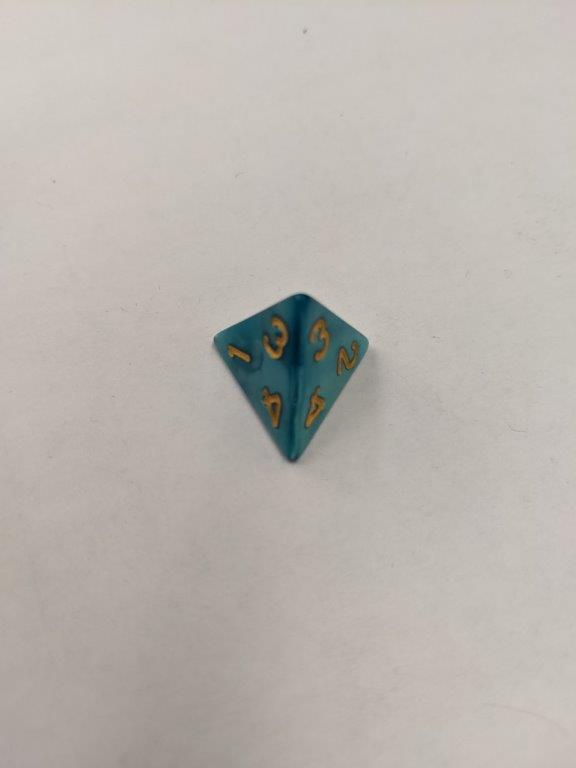d4-3: (210, 290, 373, 466)
